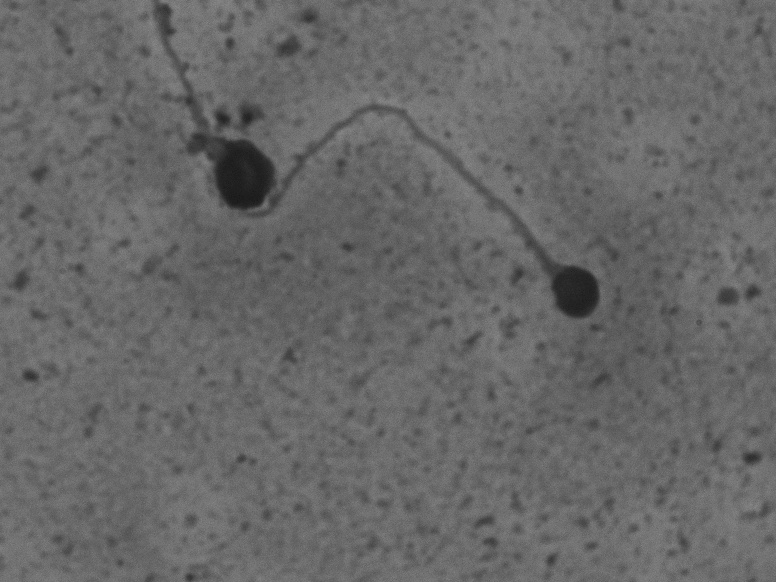Abnormal: (258, 92, 613, 324), (132, 6, 279, 236)
